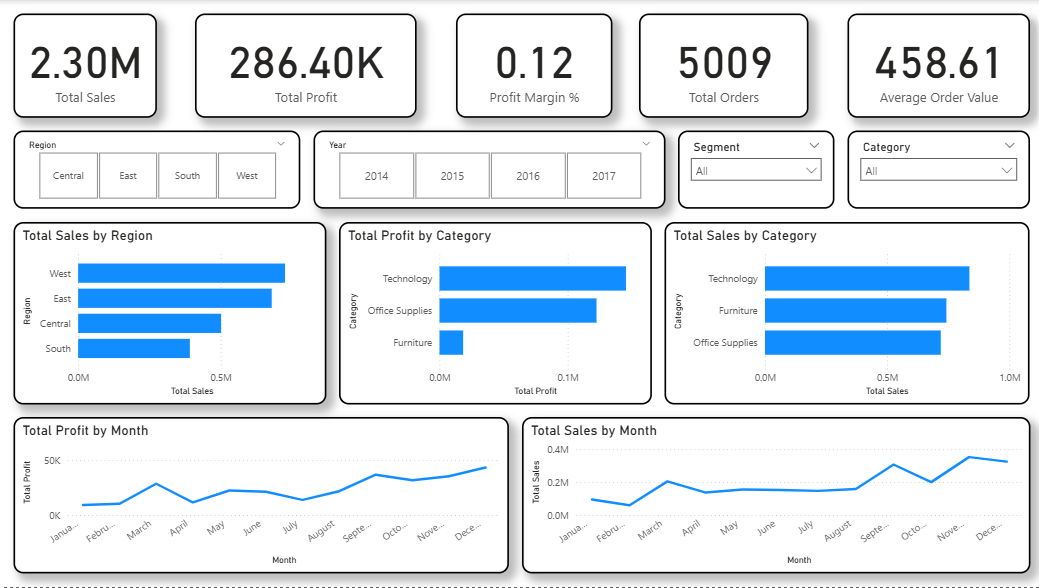

Layout of this report page (visuals, bound fields, positions):
{"tool":"powerbi","page":{"name":"Executive Overview ","canvas":[1280,720],"ordinal":0},"visuals":[{"type":"card","fields":{"Values":["superstore_cleaned.Total Profit"]},"box":[240,16,272,128],"z":0},{"type":"card","fields":{"Values":["superstore_cleaned.Profit Margin %"]},"box":[560,16,192,128],"z":1000},{"type":"card","fields":{"Values":["superstore_cleaned.Total Orders"]},"box":[784,16,208,128],"z":2000},{"type":"card","fields":{"Values":["superstore_cleaned.Average Order Value"]},"box":[1040,16,224,128],"z":3000},{"type":"card","fields":{"Values":["superstore_cleaned.Total Sales"]},"box":[16,16,176,128],"z":4000},{"type":"lineChart","fields":{"Y":["superstore_cleaned.Total Sales"],"Category":["DateTable.Month"]},"box":[640,512,624,192],"z":5000},{"type":"lineChart","fields":{"Y":["superstore_cleaned.Total Profit"],"Category":["DateTable.Month"]},"box":[16,512,608,192],"z":6000},{"type":"clusteredBarChart","fields":{"Category":["superstore_cleaned.Category"],"Y":["superstore_cleaned.Total Sales"]},"box":[816,272,448,224],"z":7000},{"type":"clusteredBarChart","fields":{"Category":["superstore_cleaned.Category"],"Y":["superstore_cleaned.Total Profit"]},"box":[416,272,384,224],"z":8000},{"type":"clusteredBarChart","fields":{"Category":["superstore_cleaned.Region"],"Y":["superstore_cleaned.Total Sales"]},"box":[16,272,384,224],"z":9000},{"type":"slicer","fields":{"Values":["DateTable.Year"]},"box":[384,160,432,96],"z":10000},{"type":"slicer","fields":{"Values":["superstore_cleaned.Region"]},"box":[16,160,352,96],"z":11000},{"type":"slicer","fields":{"Values":["superstore_cleaned.Category"]},"box":[1040,160,224,96],"z":12000},{"type":"slicer","fields":{"Values":["superstore_cleaned.Segment"]},"box":[832,160,192,96],"z":13000}]}

Visuals, with their boxes in screenshot pixels (x1, y1, x2, y2), scaled from the page's 1280x720 canvas onto the 1039x588 screenshot:
card - superstore_cleaned.Total Profit: crop(195, 13, 416, 118)
card - superstore_cleaned.Profit Margin %: crop(455, 13, 610, 118)
card - superstore_cleaned.Total Orders: crop(636, 13, 805, 118)
card - superstore_cleaned.Average Order Value: crop(844, 13, 1026, 118)
card - superstore_cleaned.Total Sales: crop(13, 13, 156, 118)
lineChart - superstore_cleaned.Total Sales x DateTable.Month: crop(520, 418, 1026, 575)
lineChart - superstore_cleaned.Total Profit x DateTable.Month: crop(13, 418, 507, 575)
clusteredBarChart - superstore_cleaned.Category x superstore_cleaned.Total Sales: crop(662, 222, 1026, 405)
clusteredBarChart - superstore_cleaned.Category x superstore_cleaned.Total Profit: crop(338, 222, 649, 405)
clusteredBarChart - superstore_cleaned.Region x superstore_cleaned.Total Sales: crop(13, 222, 325, 405)
slicer - DateTable.Year: crop(312, 131, 662, 209)
slicer - superstore_cleaned.Region: crop(13, 131, 299, 209)
slicer - superstore_cleaned.Category: crop(844, 131, 1026, 209)
slicer - superstore_cleaned.Segment: crop(675, 131, 831, 209)
